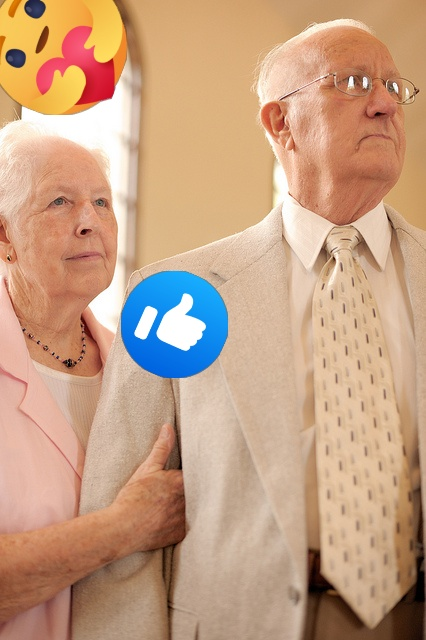care: (0, 0, 127, 115)
like: (121, 271, 228, 378)
